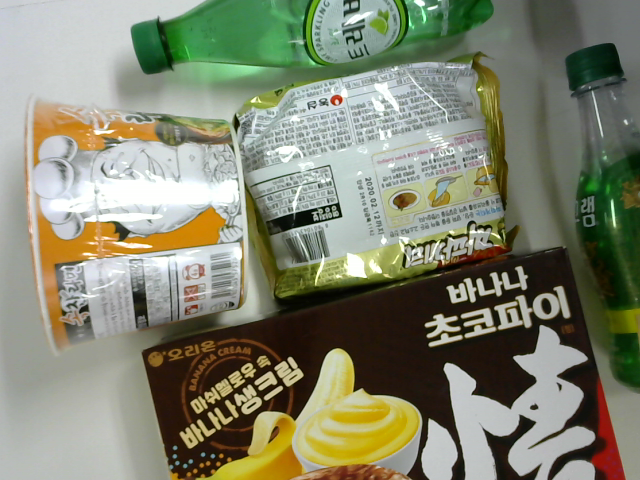Choco_Pie_Banana: (137, 252, 626, 480)
Hejangchan: (19, 96, 247, 352)
Seagram_Lemon_Carbonated_Water: (563, 42, 640, 383)
Sichuan_Chapaghetti: (225, 54, 511, 304)
Treviraim_500ml: (129, 2, 499, 62)
